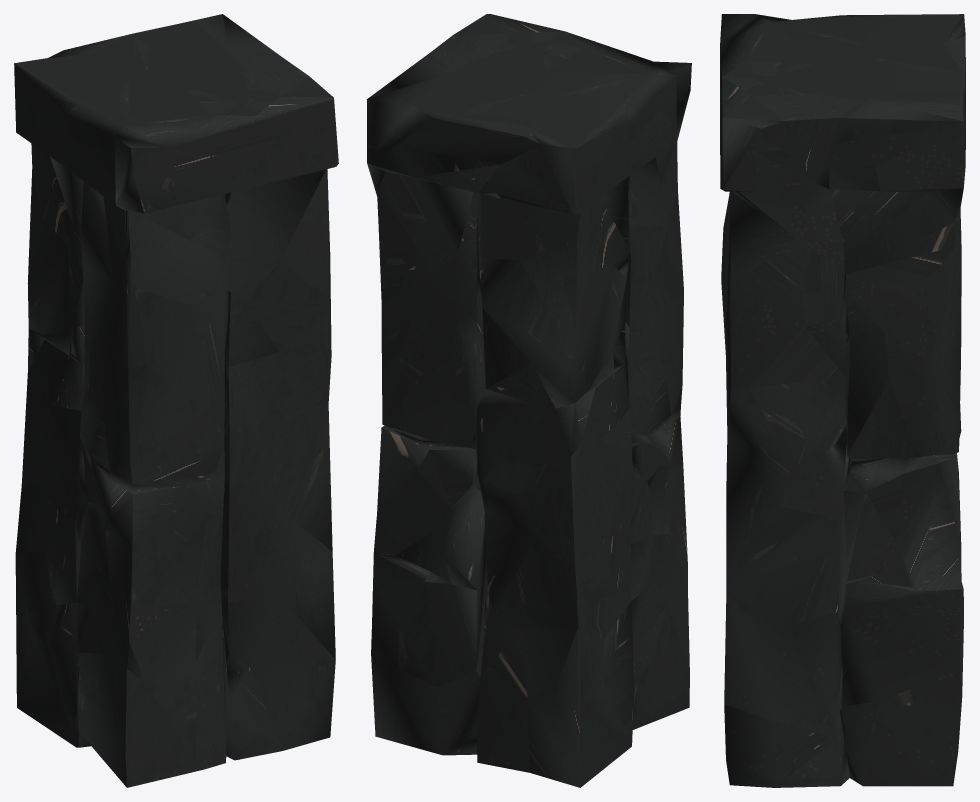
File: cover_full_caves_v1_lod1.glb
3 views of the same model, side by side, from view 1: azimuth 30°, elevation 25°; view 2: azimuth 150°, elevation 25°; view 3: azimuth 270°, elevation 25° (orthographic). The views are drawn at different scales.
Bounding box in the file's own units: 0.6448 × 1.85 × 0.6154.
1 material, 1 textured.
